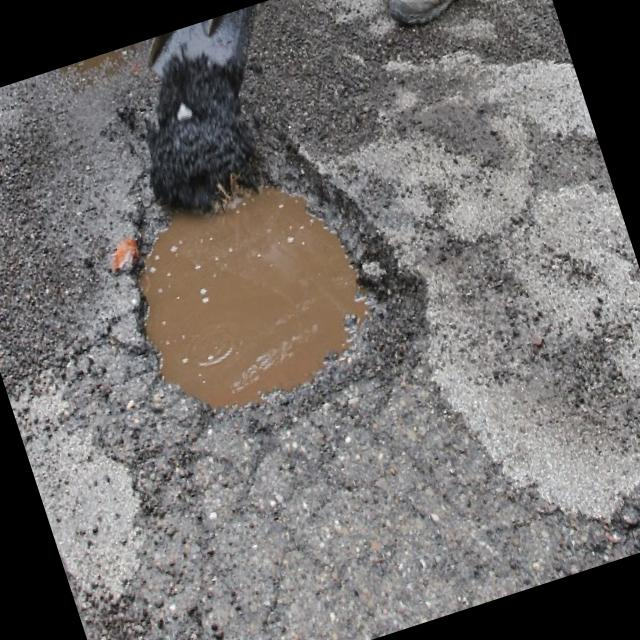Potholes: (58, 74, 467, 489)
